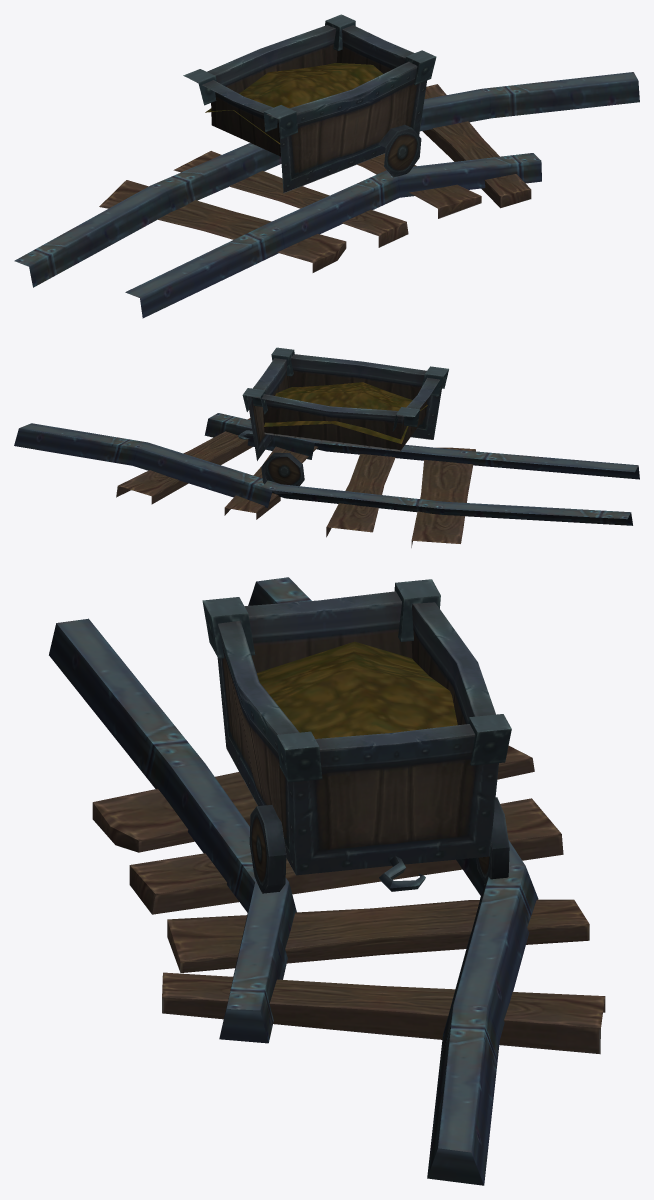
File: terrain_common_forest_guanka02_2.FBX
The picture shows the model from 3 angles, top to bottom: view 1: azimuth 30°, elevation 25°; view 2: azimuth 150°, elevation 25°; view 3: azimuth 270°, elevation 25°; orthographic projection. The views are drawn at different scales.
Visible parts, largest first — view 1: terrain_common_forest_guanka02_2; view 2: terrain_common_forest_guanka02_2; view 3: terrain_common_forest_guanka02_2.
Boxes of the visible parts, x1,y1,x2,y2 form: terrain_common_forest_guanka02_2: (14, 14, 639, 318); terrain_common_forest_guanka02_2: (14, 347, 639, 547); terrain_common_forest_guanka02_2: (49, 577, 605, 1185).
Bounding box in the file's own units: 11.83 × 2.29 × 5.05.
